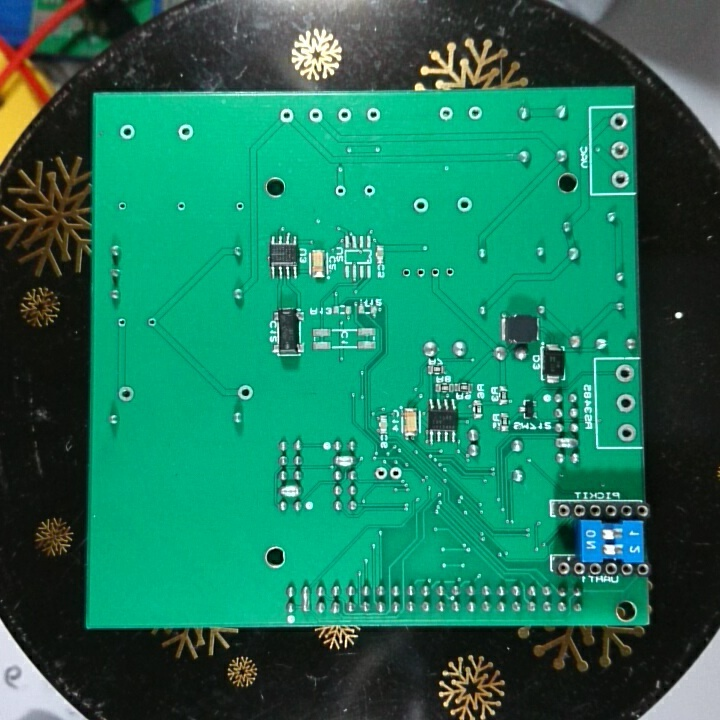F: (613, 390, 639, 418), (604, 110, 632, 135), (612, 361, 636, 388), (465, 101, 490, 126), (607, 137, 633, 161), (615, 418, 637, 446), (607, 168, 633, 190), (234, 381, 257, 404), (362, 103, 386, 125), (115, 383, 139, 404), (307, 106, 329, 128), (455, 194, 476, 217), (176, 120, 196, 143), (117, 123, 138, 144), (411, 195, 433, 215), (277, 105, 297, 127), (436, 103, 456, 124), (360, 183, 379, 201), (337, 104, 353, 124), (373, 464, 389, 483), (389, 463, 403, 483), (173, 198, 190, 214), (331, 183, 349, 198), (144, 315, 161, 330), (441, 263, 456, 279), (116, 199, 130, 216), (116, 314, 130, 330), (415, 265, 427, 283), (233, 198, 247, 213), (399, 266, 413, 281), (427, 267, 443, 279)
P: (553, 432, 582, 452), (298, 580, 314, 615), (276, 484, 308, 500), (333, 455, 357, 470)
